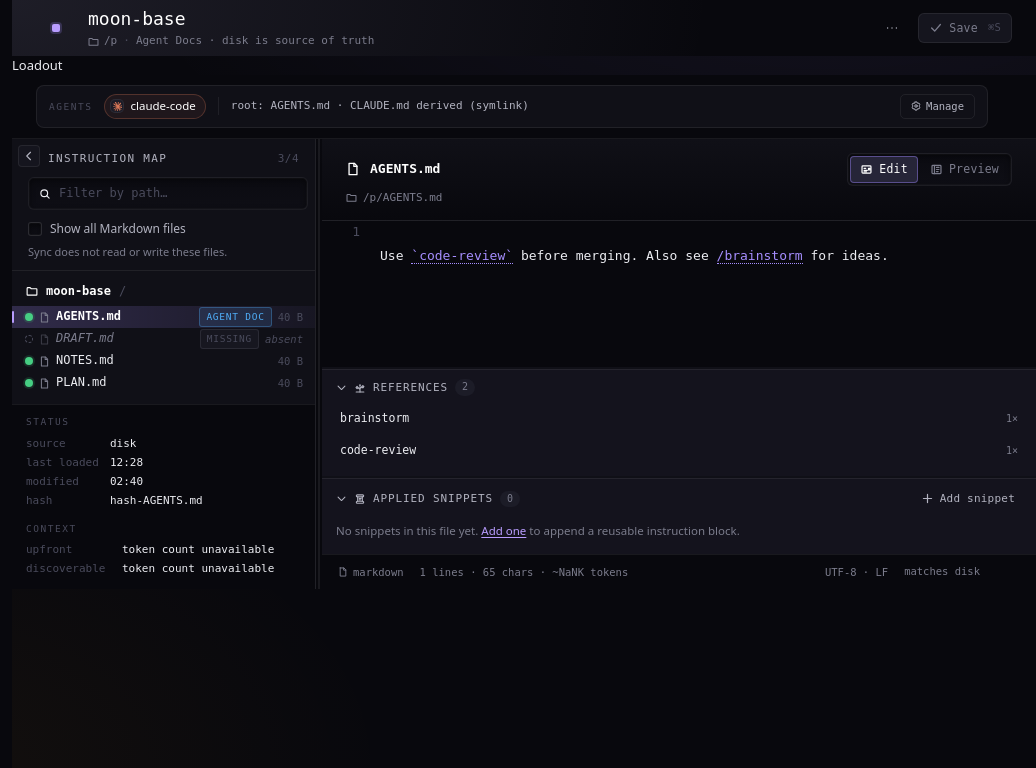
Test: AgentDocRefs › renders no strip for a buffer with no mentions
The width and height of the screenshot is (1036, 768).
Expected: the element with test id "agent-docs-refs-strip" is shown, top-left (322, 369), bottom-right (1035, 476)
What coordinates should you click on to do the following:
click the text "NOTES.md"
I would click on:
 (85, 360)
Its box is top-left (56, 353), bottom-right (114, 367).
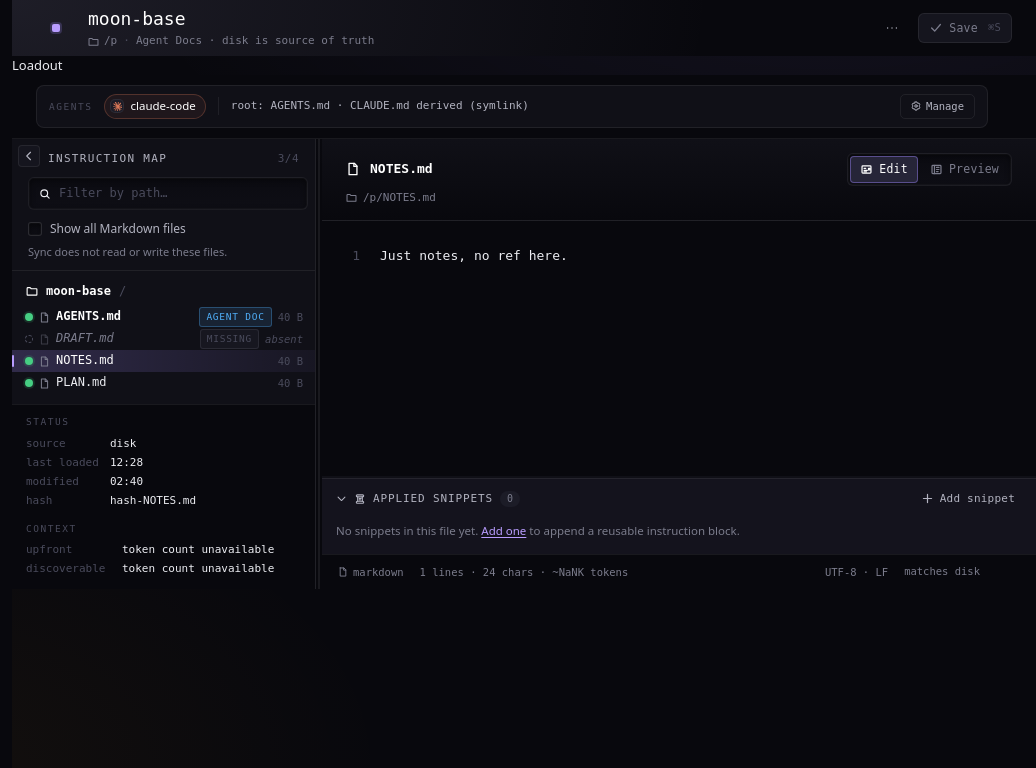
Expected: the element with test id "agent-docs-refs-strip" is gone
